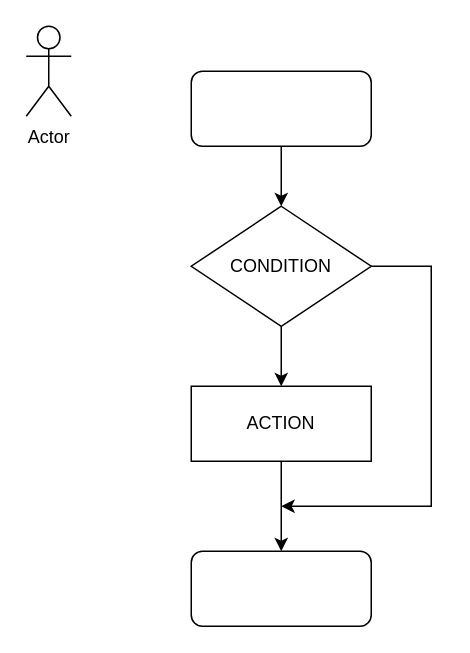
This 470x653 diagram has some shape labels left out. Each missing label, with the centre of its shape:
"END" belongs at (x=280, y=588).
"START" belongs at (x=280, y=108).
